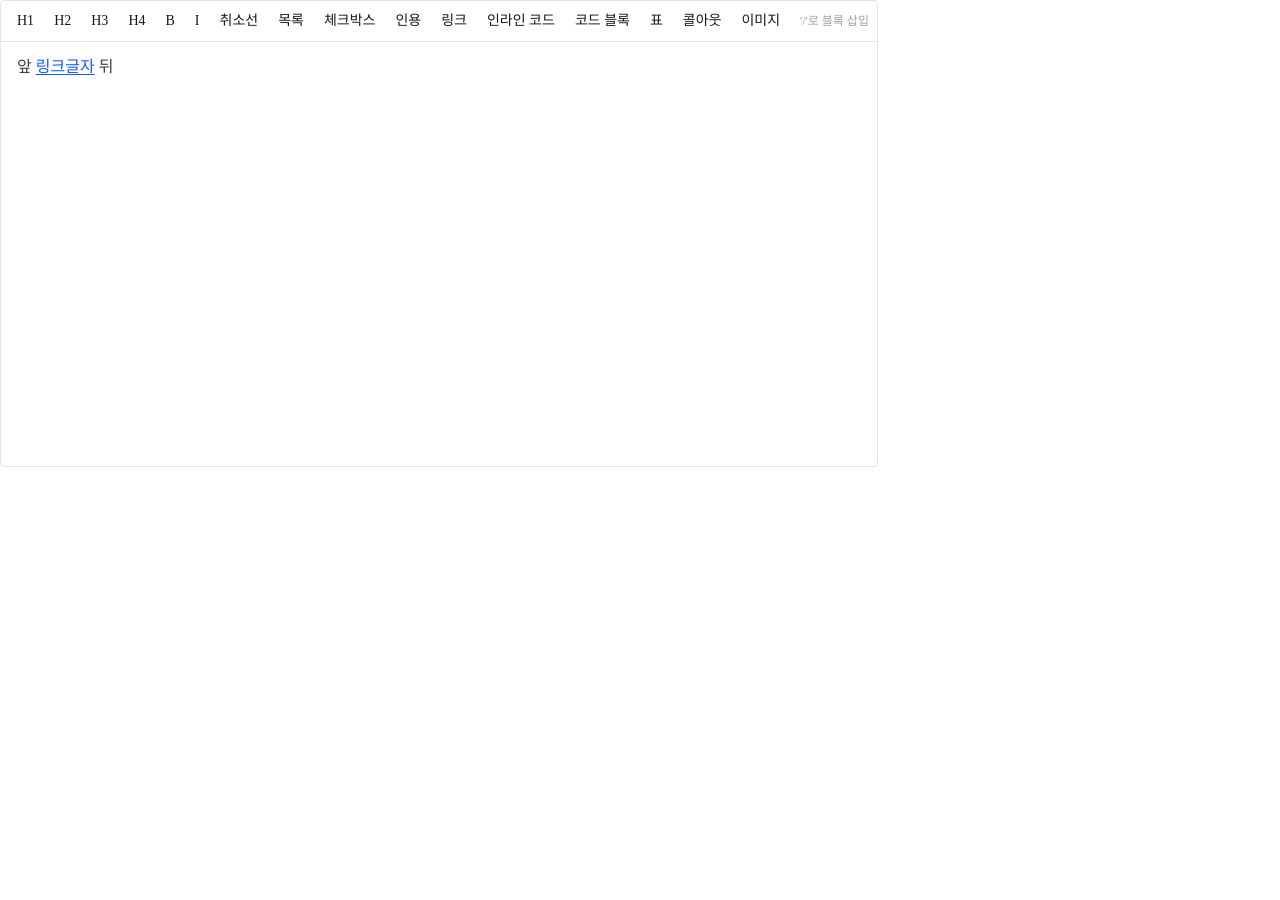
Test case: 링크 주소 팝업: 열기 › 편집 아이콘을 누르면 현재 주소가 채워진 팝업이 뜬다
Expected: the field labelled "앞 링크글자 뒤" is shown, x1=17 y1=58 x2=113 y2=75
Hover over the link "링크글자": (65, 66) x1=36 y1=58 x2=95 y2=75
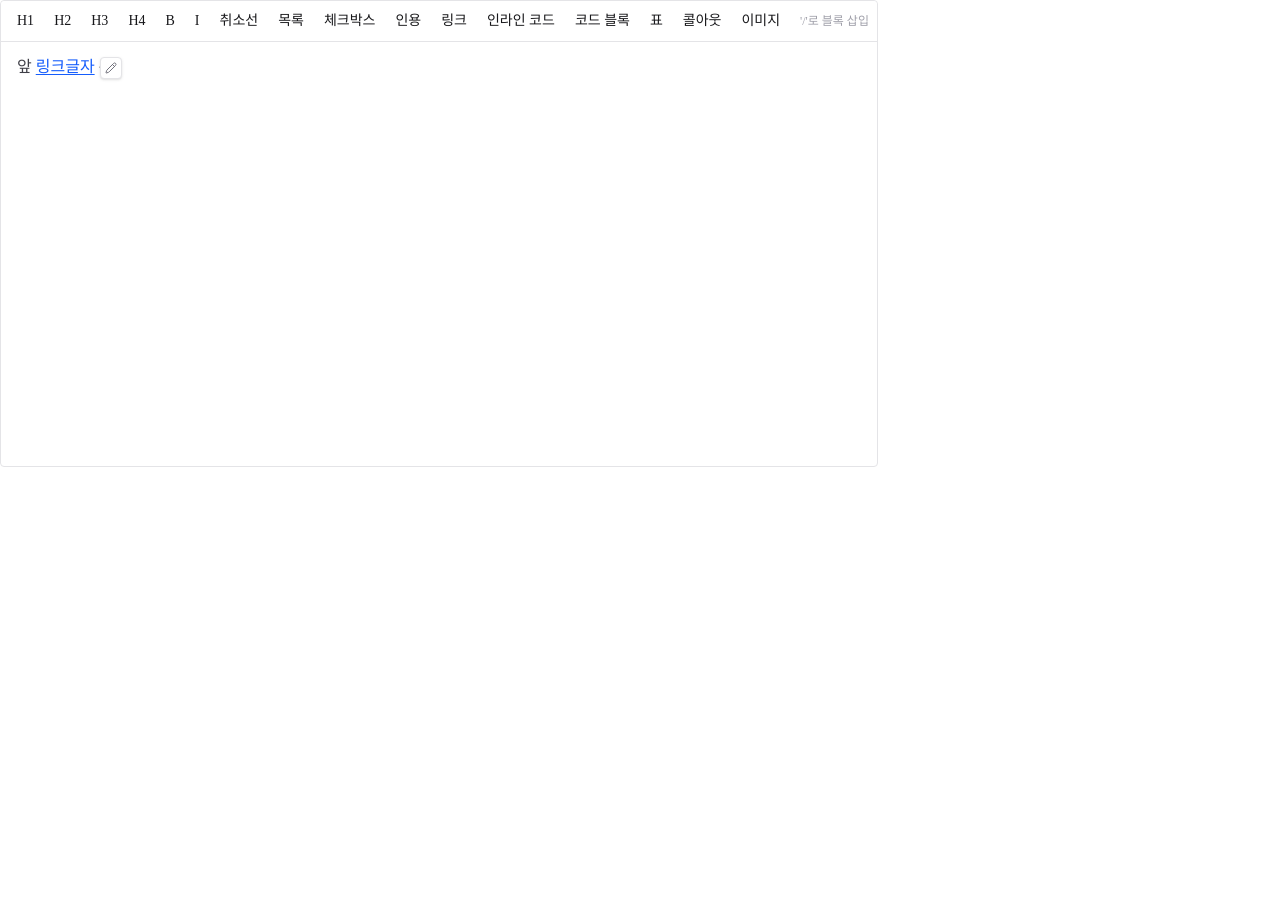
Click the button named "링크 편집": (111, 68) x1=100 y1=56 x2=122 y2=78
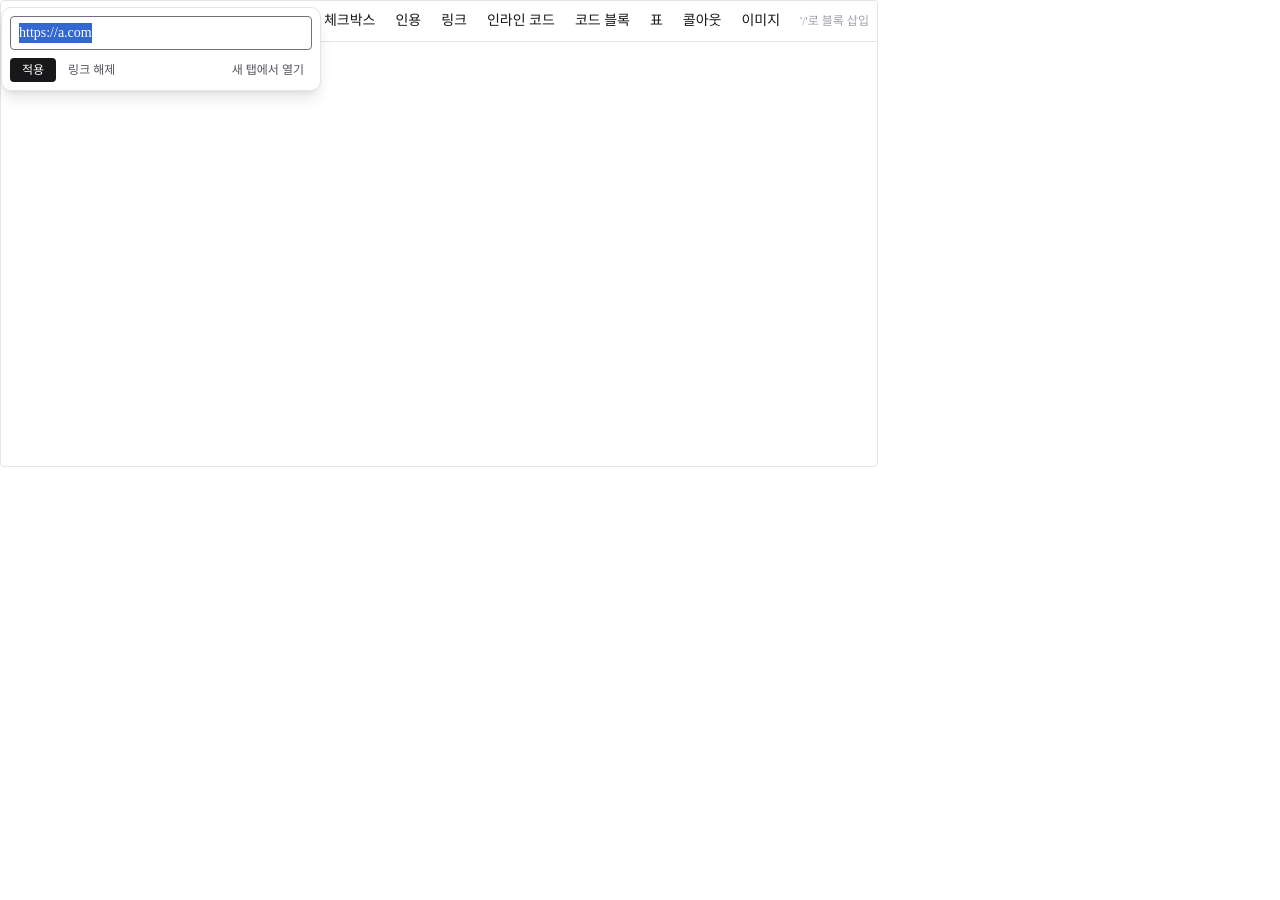
Now the dialog named "링크 편집" is shown, box x1=1 y1=7 x2=321 y2=91
Now the field named "링크 주소" holds "https://a.com", box x1=10 y1=16 x2=312 y2=50
